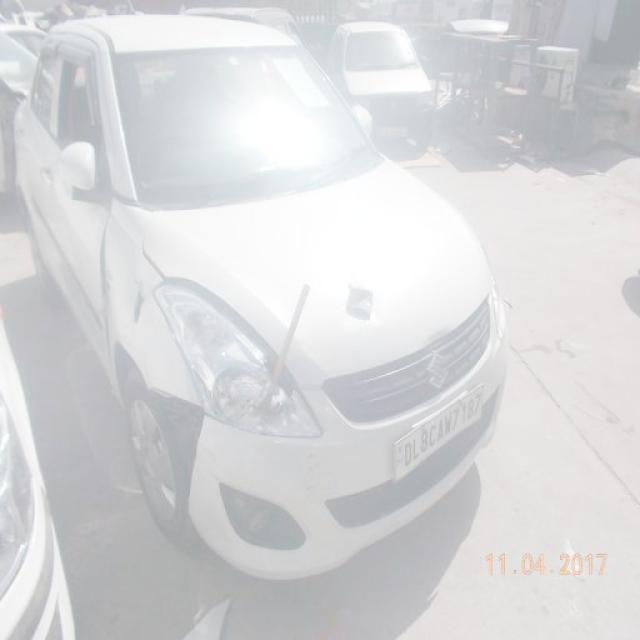car damage: (170, 274, 328, 444), (152, 390, 205, 509), (95, 224, 113, 374), (342, 278, 375, 328), (130, 280, 149, 331)
